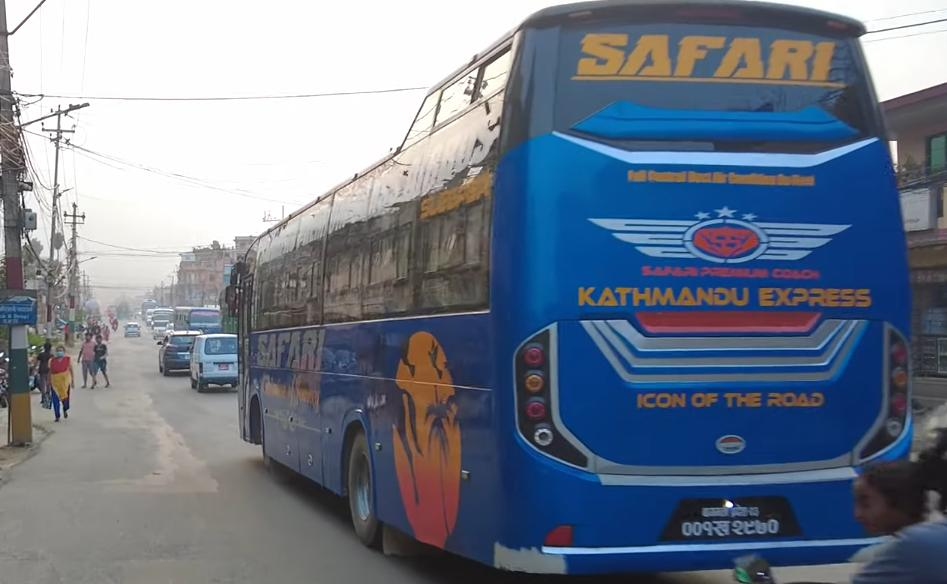bus: (234, 11, 929, 571)
van: (186, 330, 244, 395)
